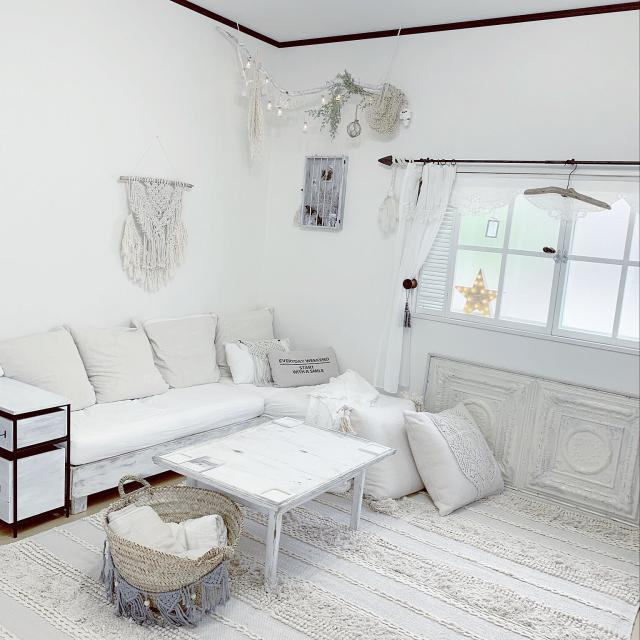white sofa: (5, 318, 344, 520)
